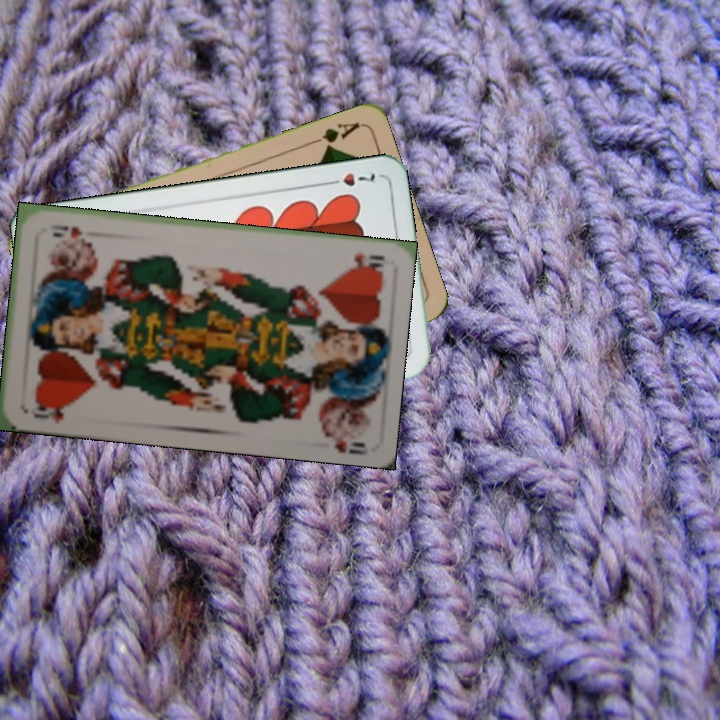GA: (305, 118, 362, 153)
H7: (322, 168, 378, 189)
HO: (29, 398, 74, 426), (344, 248, 387, 273)
